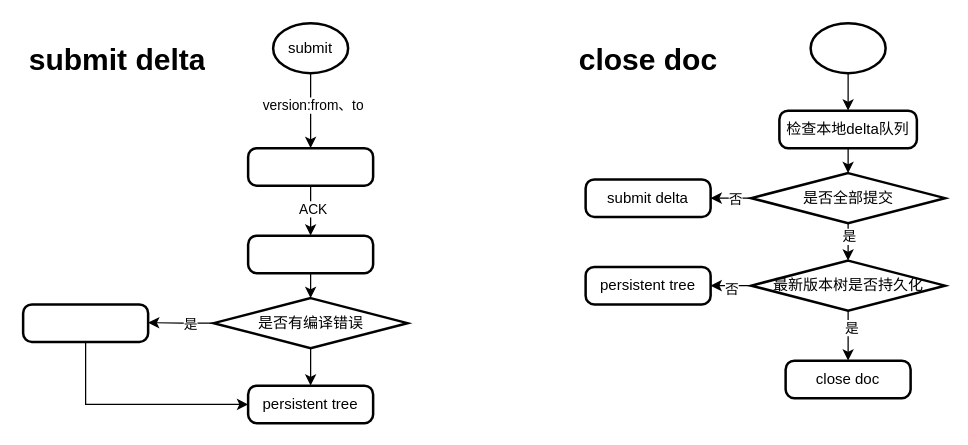
Image size: 968x445. Some labels were removed from this diagram. The box of each missing label's shape, as (x1, y1, x2, y2) in pixels:
close: (809, 21, 886, 74)
frontend: (246, 234, 374, 274)
Server: (246, 146, 374, 186)
更新UI: (21, 302, 149, 342)
